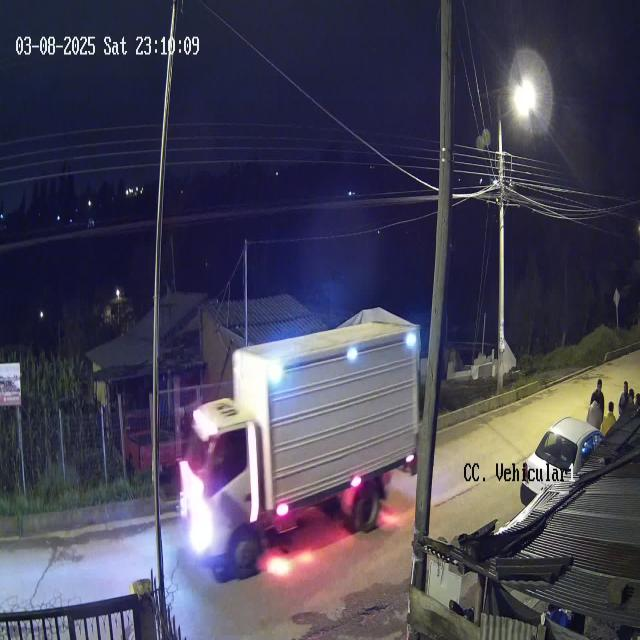TRUCK: (178, 319, 419, 578)
